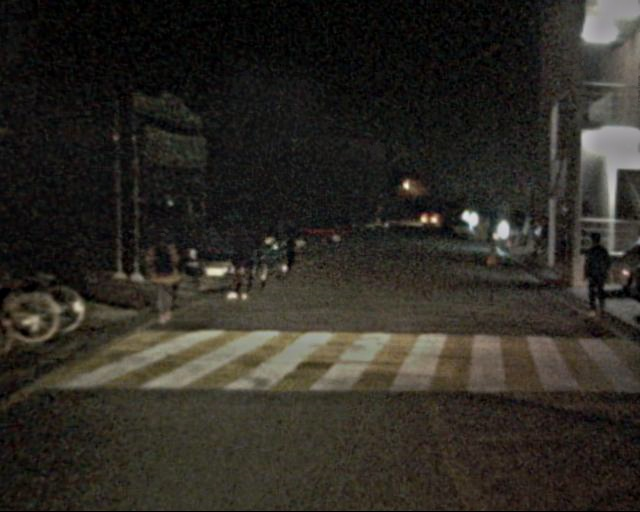person: (146, 227, 188, 327), (577, 235, 616, 326), (224, 218, 260, 303)
